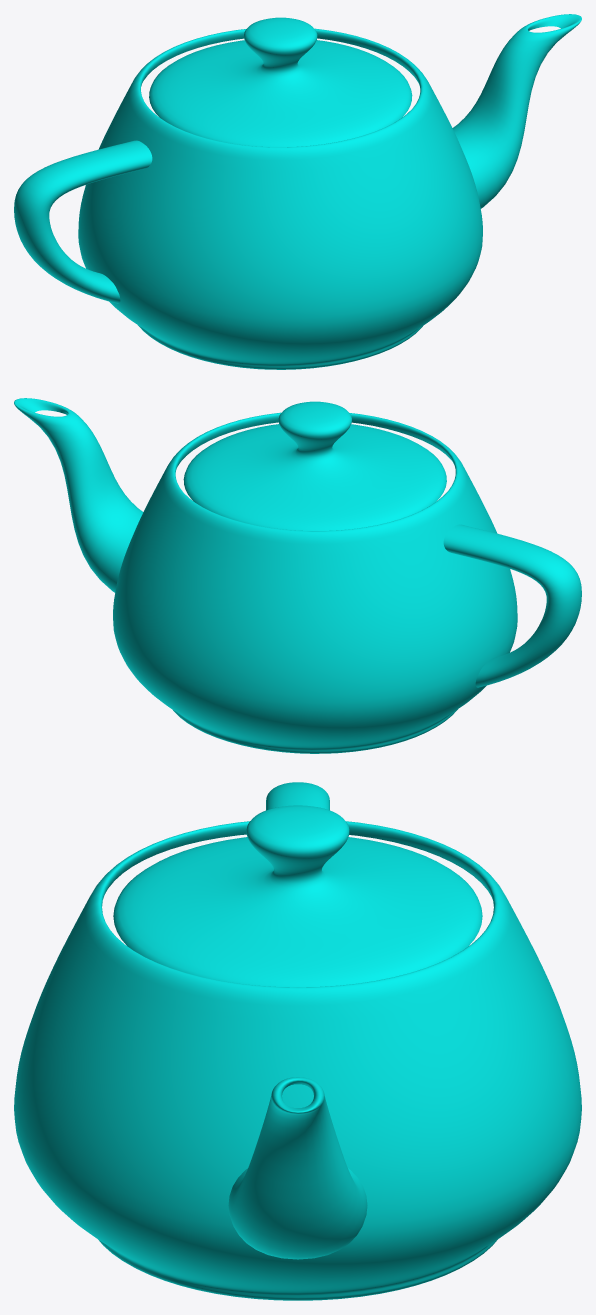
Rendered from teapot.glb.
3 views of the same model, one above another, from view 1: azimuth 30°, elevation 25°; view 2: azimuth 150°, elevation 25°; view 3: azimuth 270°, elevation 25° (orthographic). The views are drawn at different scales.
Parts seen in each view (by area): view 1: Teapot001; view 2: Teapot001; view 3: Teapot001.
Boxes of the visible parts, x1,y1,x2,y2 form: Teapot001: [14, 14, 581, 369]; Teapot001: [14, 398, 581, 753]; Teapot001: [14, 782, 581, 1300].
Size of the model in its own units: 32.17 by 15.75 by 20.
